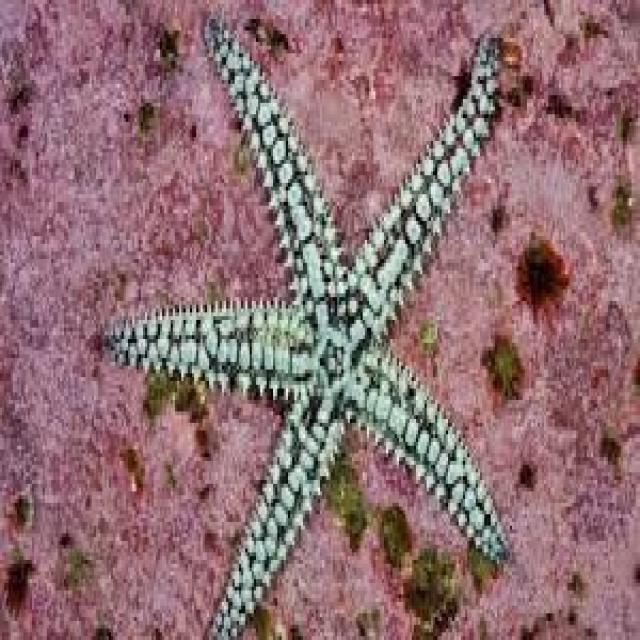starfish: (105, 19, 503, 636)
